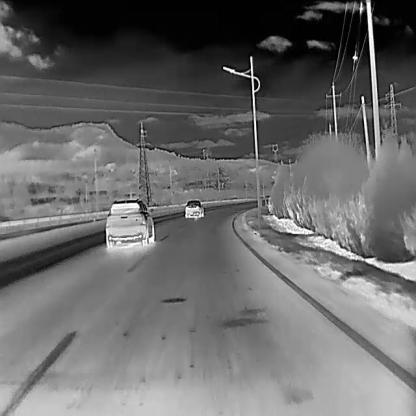car: (105, 197, 154, 246), (184, 198, 203, 219)
